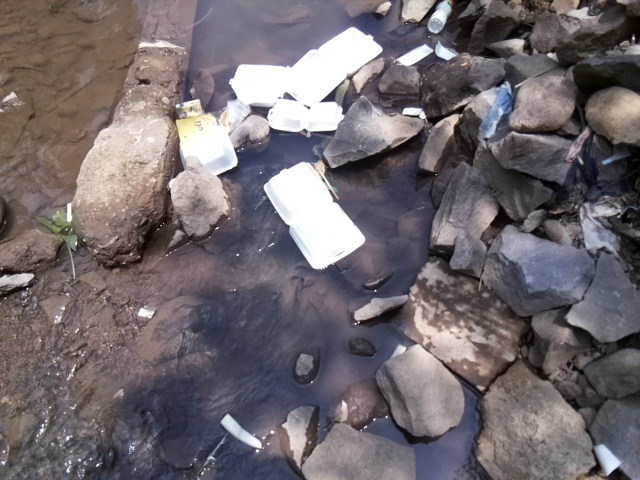Sampah_Botol_Plastik: (428, 1, 455, 35)
Sampah_Styrofoam: (229, 23, 385, 139), (262, 160, 368, 268), (177, 128, 241, 179), (396, 43, 461, 68)
